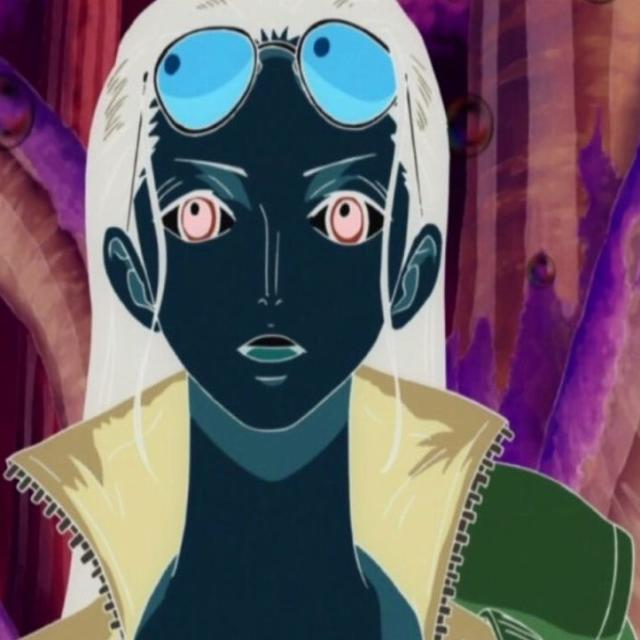Robin: (8, 0, 640, 640)
